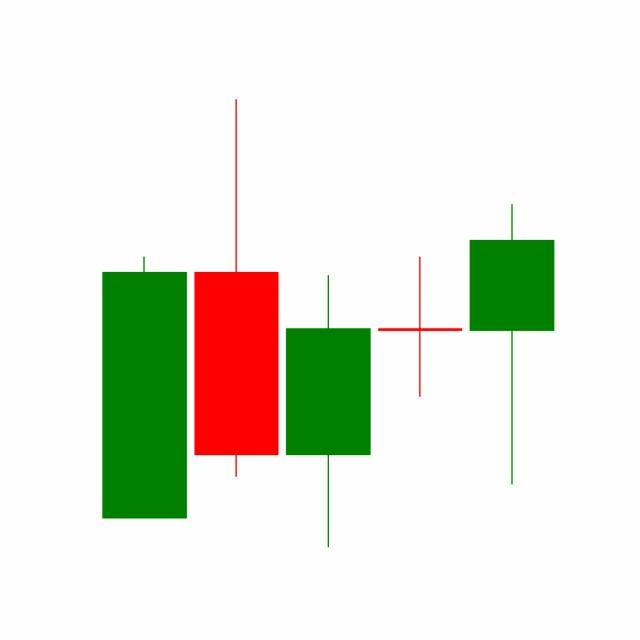Spinning Top: (374, 256, 468, 400)
